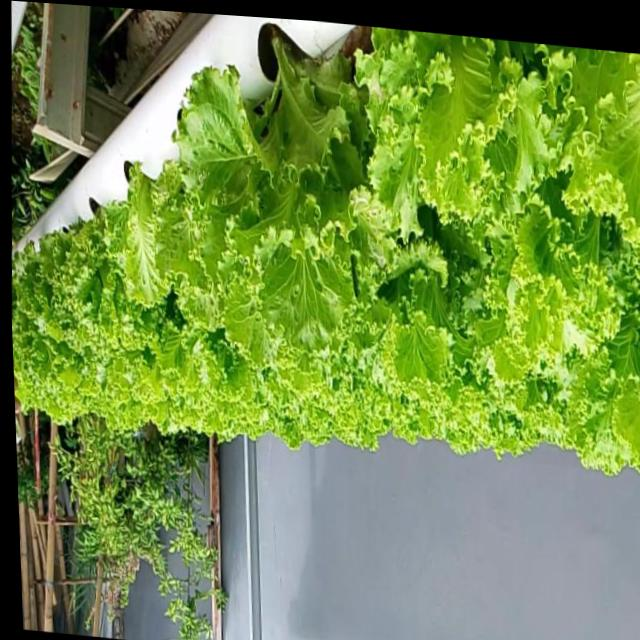Mature: (12, 24, 640, 474), (172, 23, 392, 353), (49, 192, 156, 353)
